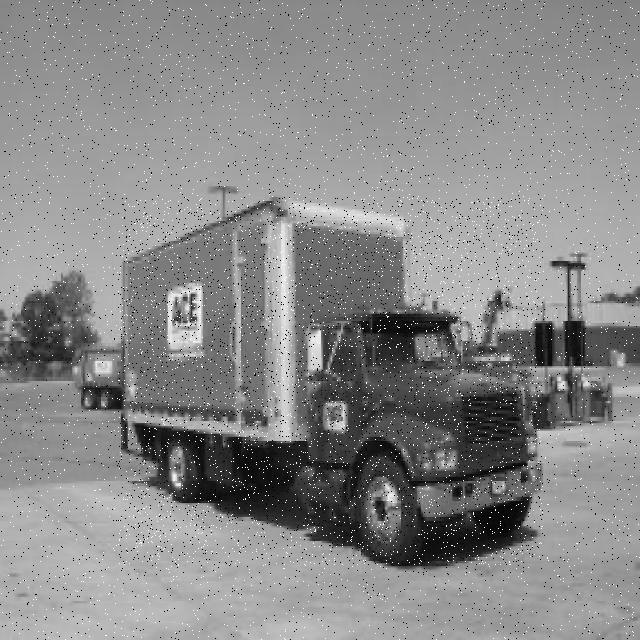Box Truck: (118, 197, 543, 566)
